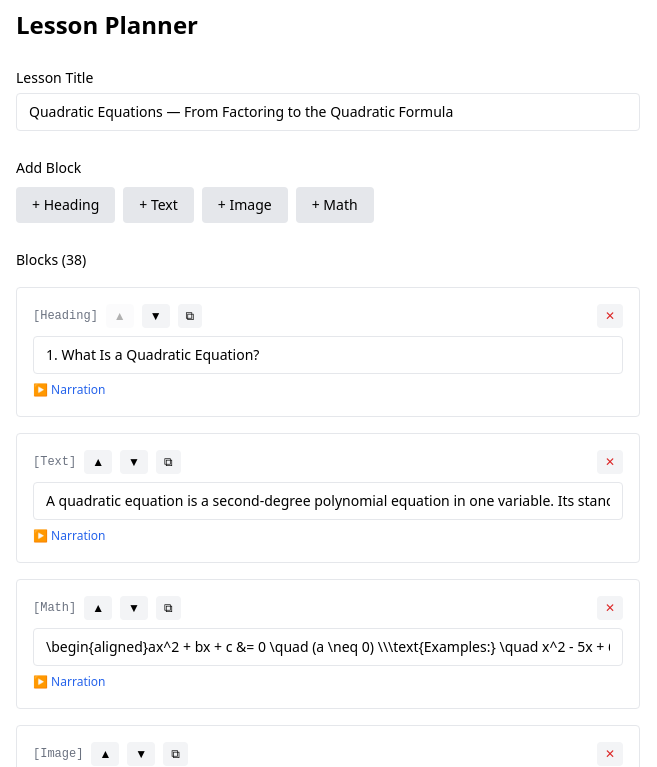
Test: LessonPlanner › deletes block and removes it from count
Expected: the text "Blocks (38)" is shown, [16, 250, 86, 269]
What coordinates should you click on to do the following:
click the button named "Delete block"
I would click on:
 (610, 316)
Its box is [597, 304, 623, 328].
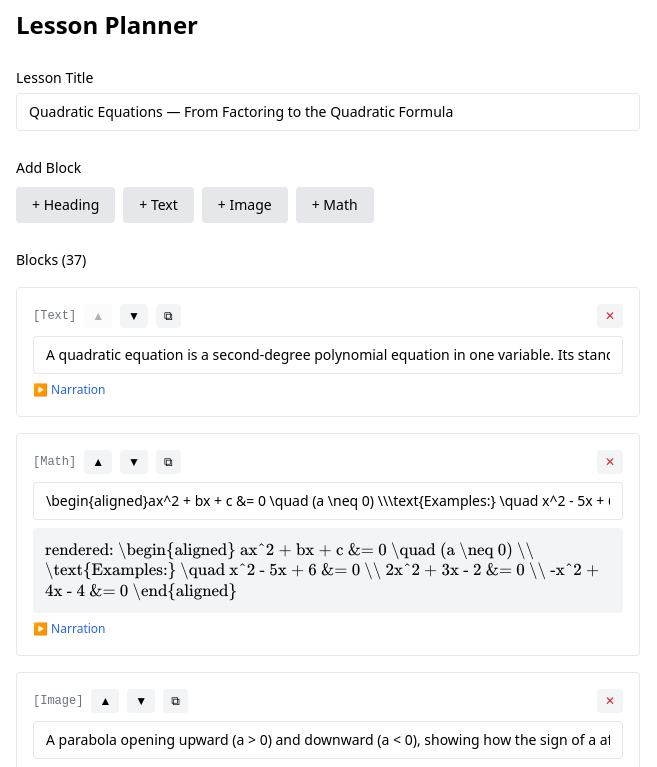
Expected: the text "Blocks (37)" is shown, [16, 250, 86, 269]
